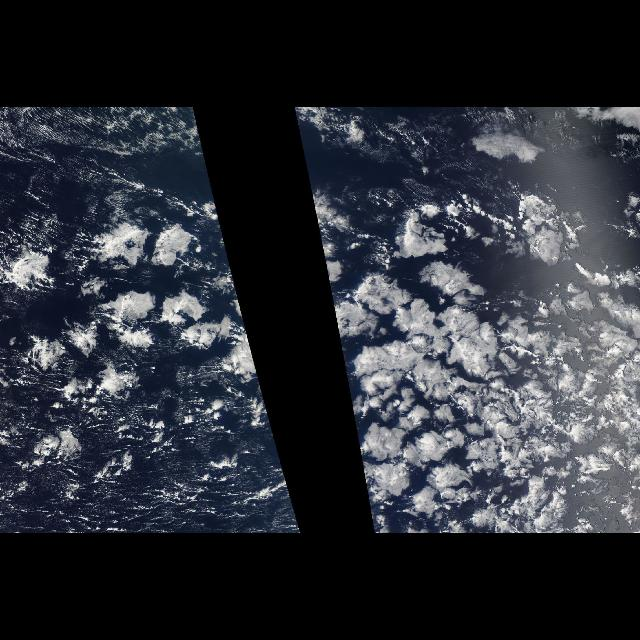Flower: (354, 177, 628, 527), (7, 179, 265, 405)
